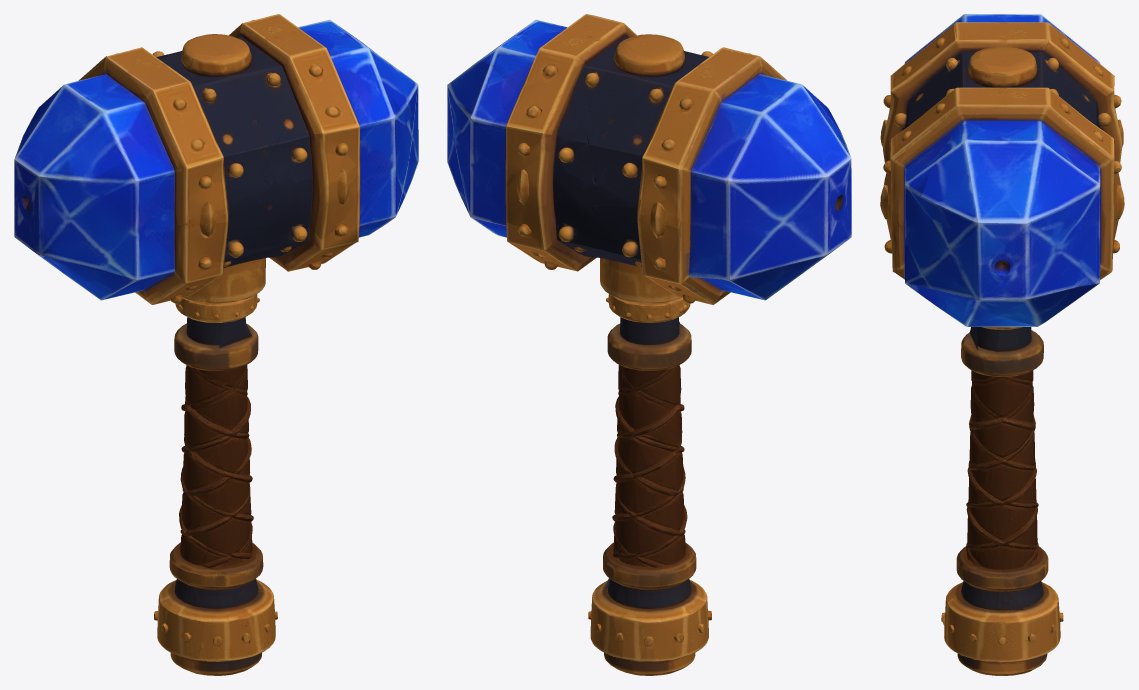
Rendered from crystal-hammer.glb.
The picture shows the model from 3 angles, left to right: view 1: azimuth 30°, elevation 25°; view 2: azimuth 150°, elevation 25°; view 3: azimuth 270°, elevation 25°; orthographic projection.
Parts seen in each view (by area): view 1: Mesh_0; view 2: Mesh_0; view 3: Mesh_0.
Boxes of the visible parts, box(x1,y1,x2,y2) form: Mesh_0: box(14, 14, 418, 675); Mesh_0: box(447, 14, 851, 675); Mesh_0: box(880, 14, 1124, 675).
Size of the model in its own units: 1.24 by 1.9 by 0.699.
Materials: 1 (1 with a texture image).
